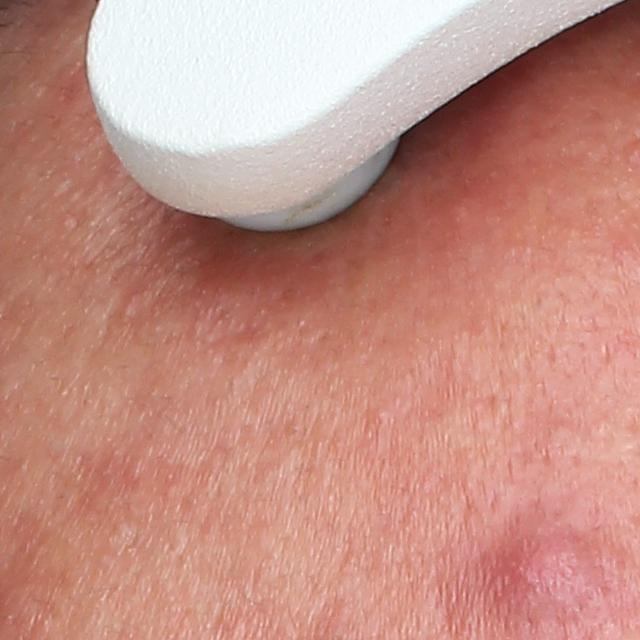comedo: (369, 404, 394, 422)
papule: (497, 531, 589, 628)
